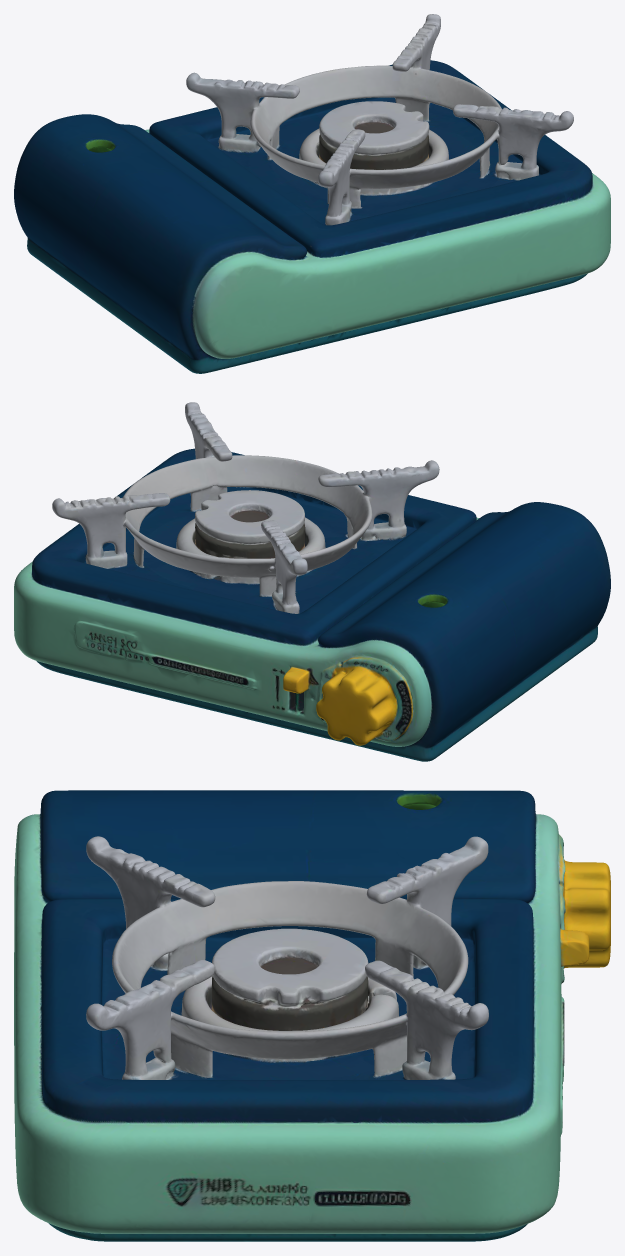
Rendered from CampBurner.glb.
The picture shows the model from 3 angles, top to bottom: view 1: azimuth 30°, elevation 25°; view 2: azimuth 150°, elevation 25°; view 3: azimuth 270°, elevation 25°; orthographic projection. The views are drawn at different scales.
Visible parts, largest first — view 1: tripo_node_ba50d136-b32d-4688-8a3c-aa9e90a89e9b; view 2: tripo_node_ba50d136-b32d-4688-8a3c-aa9e90a89e9b; view 3: tripo_node_ba50d136-b32d-4688-8a3c-aa9e90a89e9b.
Part boxes in pixels (left/top/right/bottom): tripo_node_ba50d136-b32d-4688-8a3c-aa9e90a89e9b: left=14, top=14, right=610, bottom=373; tripo_node_ba50d136-b32d-4688-8a3c-aa9e90a89e9b: left=14, top=402, right=610, bottom=761; tripo_node_ba50d136-b32d-4688-8a3c-aa9e90a89e9b: left=14, top=790, right=610, bottom=1241.
Size of the model in its own units: 1 by 0.3489 by 0.8156.
1 material, 1 textured.
